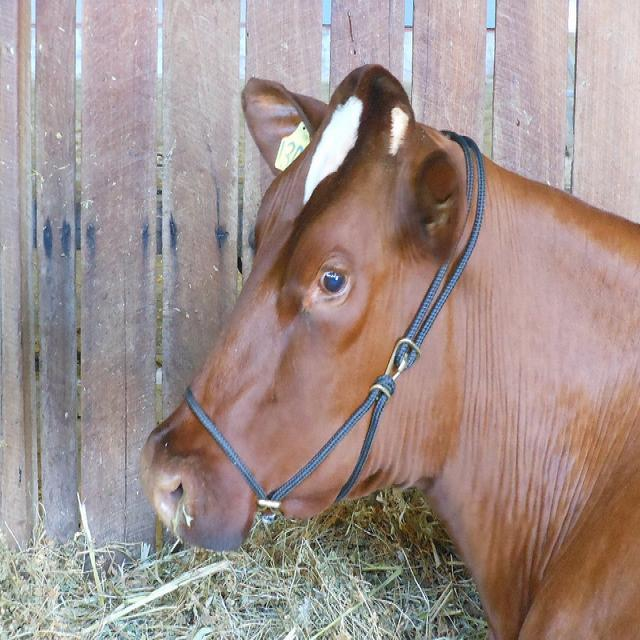cow: (136, 61, 639, 635)
